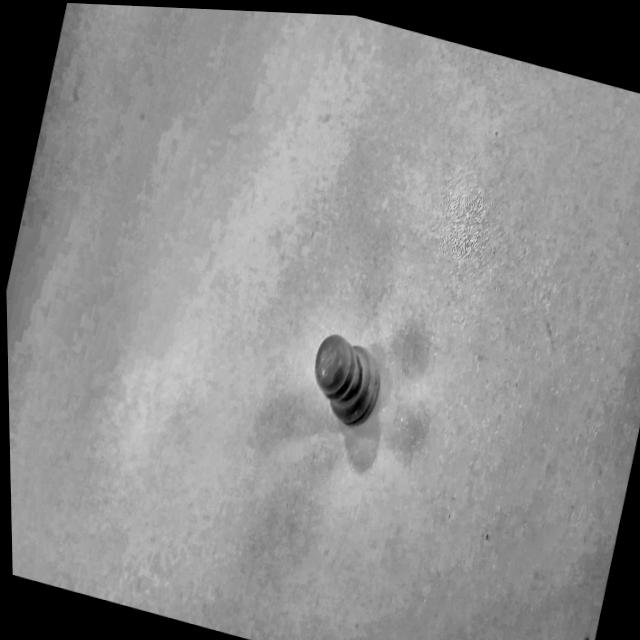white-pawn: (287, 302, 417, 462)
